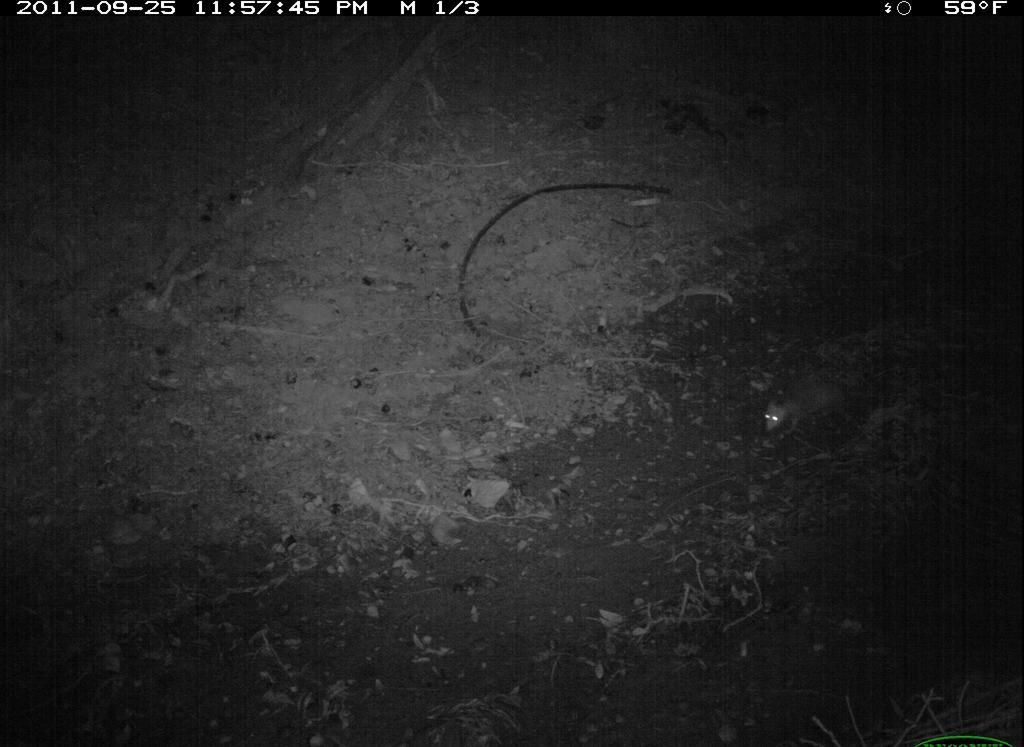opossum: (749, 368, 911, 451)
